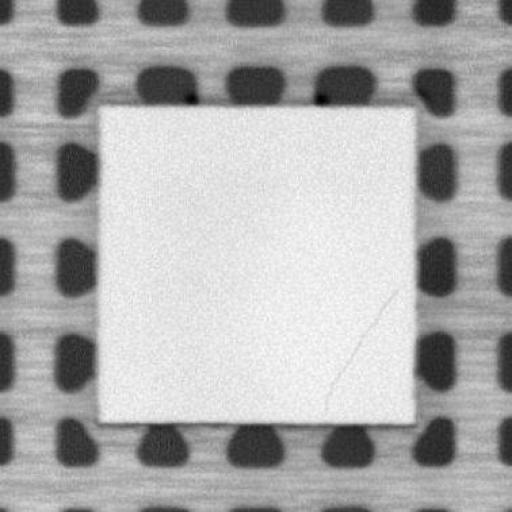DIE_CRACK: (320, 289, 398, 412)
